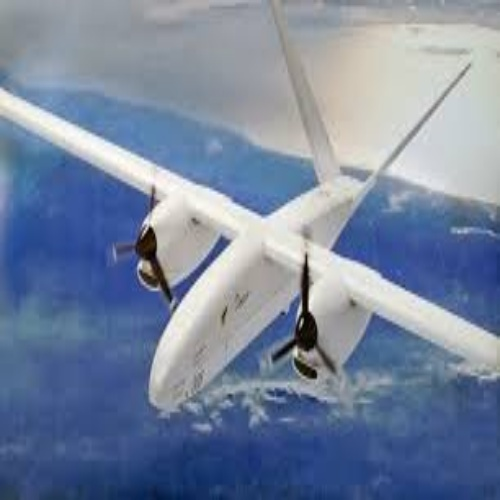uav: (2, 6, 500, 421)
